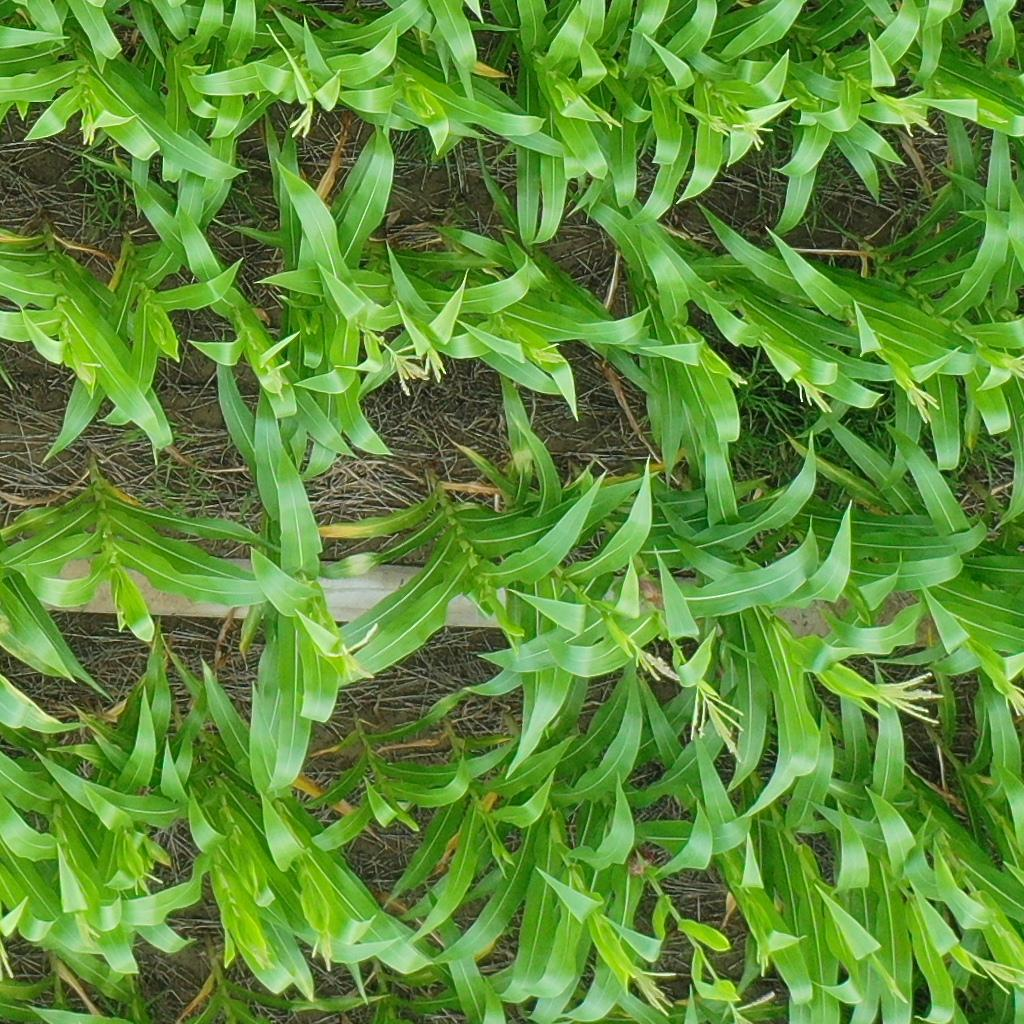Tassel: (688, 685, 747, 764), (872, 671, 943, 725), (320, 621, 378, 681), (969, 950, 1024, 995), (630, 644, 686, 686), (635, 969, 679, 1017), (388, 344, 426, 395), (905, 381, 942, 426), (793, 375, 833, 415), (897, 101, 938, 139), (728, 992, 776, 1024), (732, 119, 775, 153), (262, 360, 290, 404), (997, 927, 1024, 967), (309, 930, 334, 972), (76, 913, 101, 951), (529, 342, 566, 367), (290, 100, 314, 138), (423, 346, 448, 382), (132, 870, 162, 899), (79, 105, 99, 145), (1003, 680, 1024, 717), (71, 361, 102, 386), (595, 105, 624, 131), (248, 945, 275, 971), (707, 114, 734, 139), (1, 936, 15, 981), (754, 946, 773, 979), (1000, 353, 1024, 379), (977, 107, 1008, 125), (731, 372, 746, 388)
